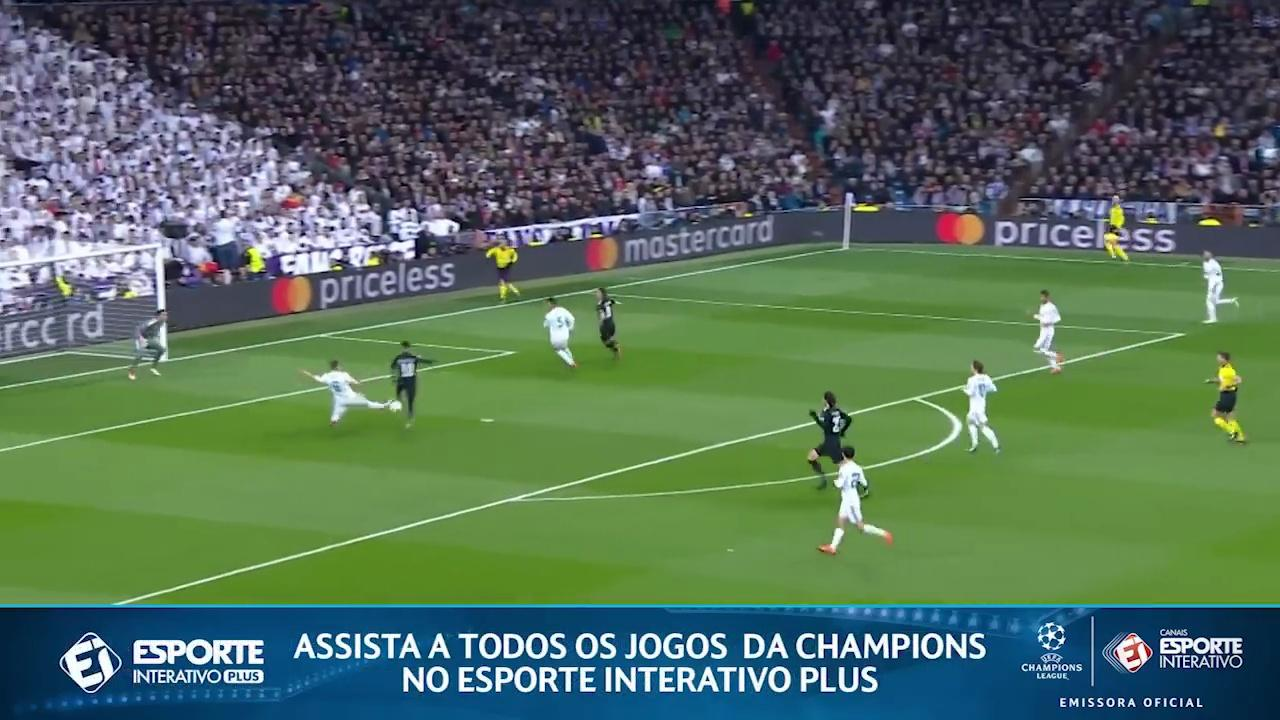football: (389, 394, 404, 420)
player: (819, 448, 892, 554), (301, 360, 392, 425), (807, 391, 851, 488), (391, 341, 432, 426), (964, 360, 999, 453), (128, 310, 167, 379), (1202, 251, 1238, 323), (1032, 290, 1063, 373), (544, 297, 576, 367), (595, 287, 620, 358)
referee: (1206, 352, 1245, 443), (486, 240, 519, 301), (1104, 195, 1128, 261)
